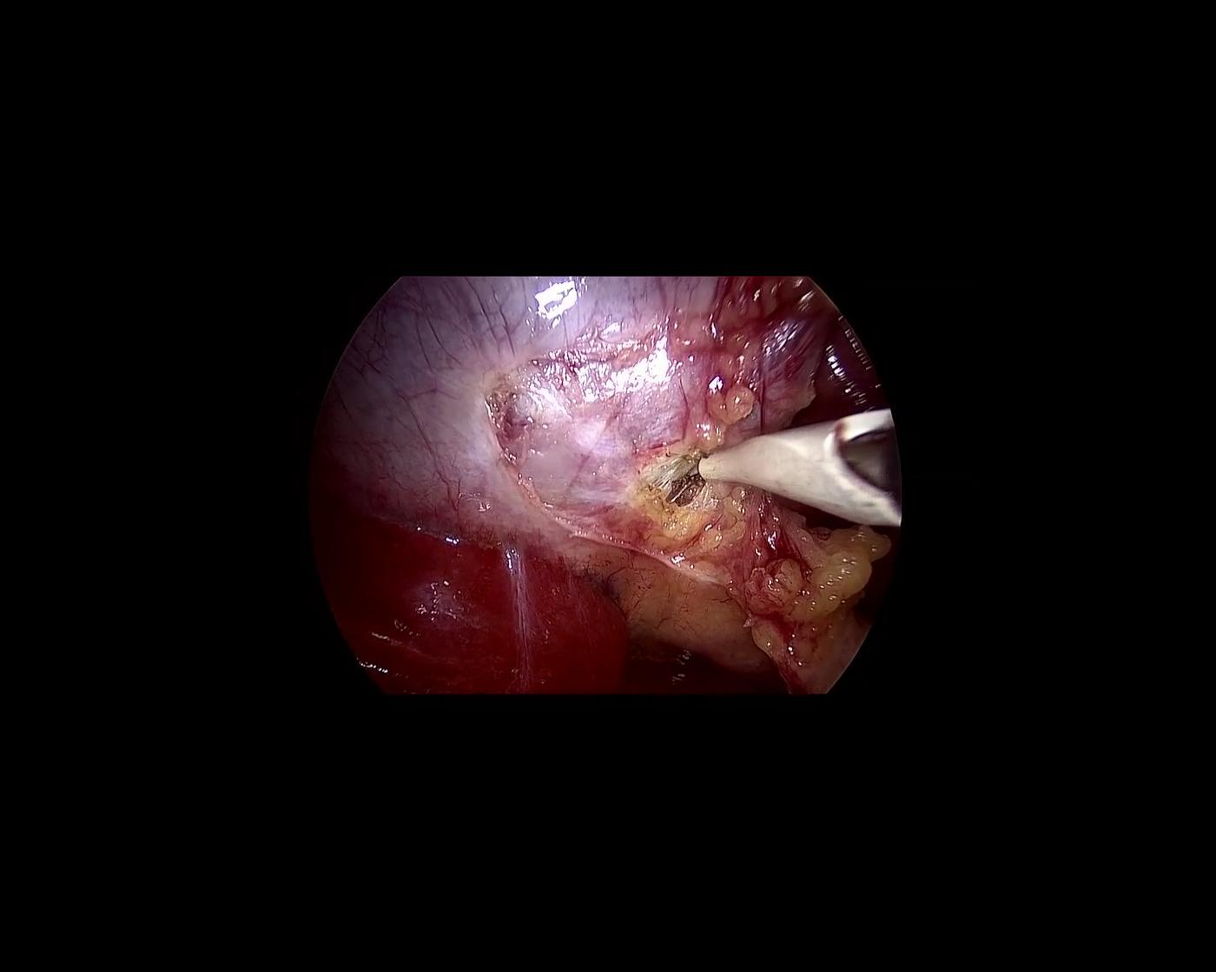Cautery: (655, 411, 910, 569)
Gallbladder: (321, 278, 831, 570)
Liver: (267, 492, 642, 761)
